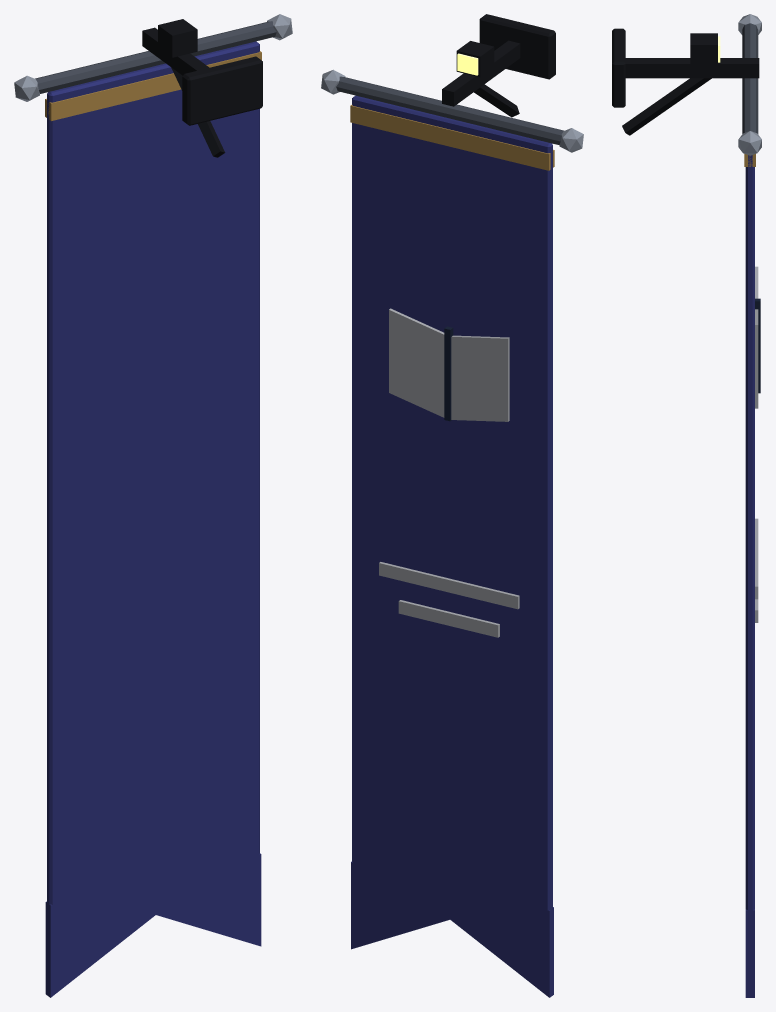
The model's file is lib_banner.glb.
3 views of the same model, side by side, from view 1: azimuth 30°, elevation 25°; view 2: azimuth 150°, elevation 25°; view 3: azimuth 270°, elevation 25° (orthographic). The views are drawn at different scales.
Visible parts, largest first — view 1: banner; view 2: banner; view 3: banner.
Boxes of the visible parts, box(x1,y1,x2,y2) form: banner: box(14, 14, 292, 997); banner: box(321, 14, 583, 997); banner: box(612, 14, 761, 997).
Bounding box in the file's own units: 1.31 × 4.36 × 0.651.
